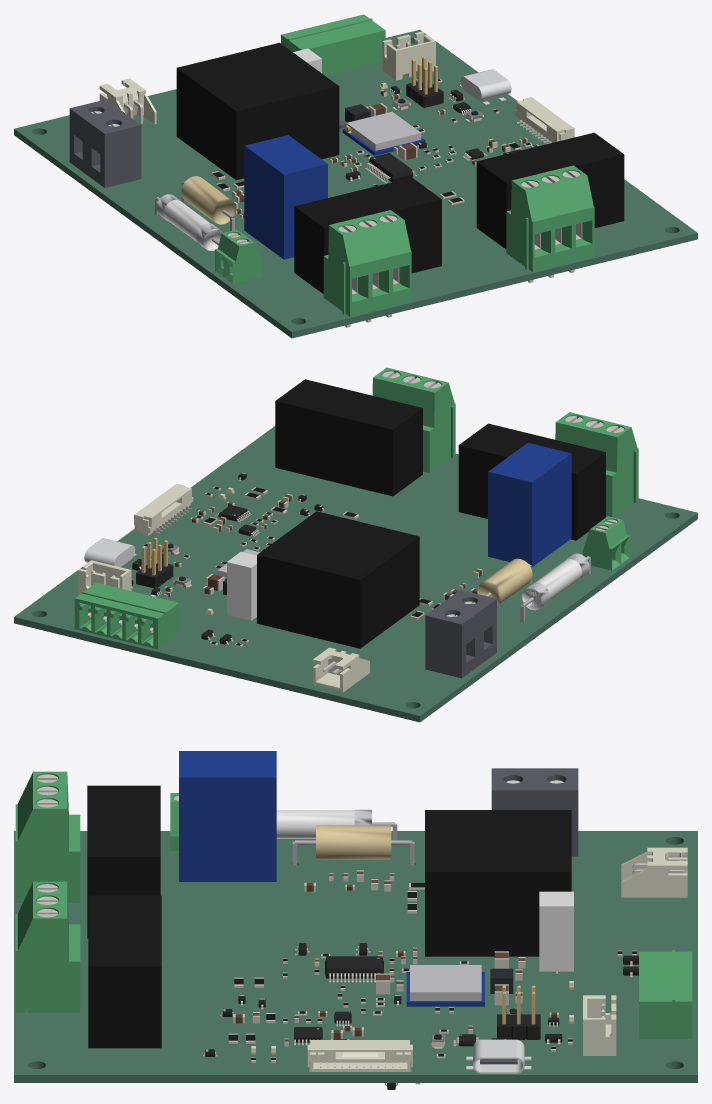
Rendered from main.glb.
3 renders of one model, top to bottom at view 1: azimuth 30°, elevation 25°; view 2: azimuth 150°, elevation 25°; view 3: azimuth 270°, elevation 25°, orthographic. The views are drawn at different scales.
Visible parts, largest first — view 1: =>[0:1:1:126], G5RL-1-E-HR-envelope (Shell) (×2), =>[0:1:1:35] (×2), RACM06E-envelope (Shell), TMOV14-inline-envelope (Shell), =>[0:1:1:24], =>[0:1:1:103], =>[0:1:1:17], =>[0:1:1:82], ESP32-C6-MINI-1U-envelope (Shell), =>[0:1:1:92], R_Axial_L13_D6-envelope (Face) (+5 smaller); view 2: =>[0:1:1:126], G5RL-1-E-HR-envelope (Shell) (×2), RACM06E-envelope (Shell), TMOV14-inline-envelope (Shell), =>[0:1:1:35] (×2), =>[0:1:1:24], =>[0:1:1:103], =>[0:1:1:7], =>[0:1:1:17], =>[0:1:1:11], =>[0:1:1:92], R_Axial_L13_D6-envelope (Face) (+4 smaller); view 3: =>[0:1:1:126], G5RL-1-E-HR-envelope (Shell) (×2), RACM06E-envelope (Shell), =>[0:1:1:35] (×2), TMOV14-inline-envelope (Shell), =>[0:1:1:103], =>[0:1:1:24], =>[0:1:1:92], ESP32-C6-MINI-1U-envelope (Shell) (×2), =>[0:1:1:11], =>[0:1:1:7], R_Axial_L13_D6-envelope (Face) (+5 smaller).
Boxes of the visible parts, x1,y1,x2,y2 form: =>[0:1:1:126]: (14,29,697,338); G5RL-1-E-HR-envelope (Shell) (×2): (294,132,624,293); =>[0:1:1:35] (×2): (323,165,594,327); RACM06E-envelope (Shell): (176,42,339,180); TMOV14-inline-envelope (Shell): (244,135,327,259); =>[0:1:1:24]: (69,99,141,187); =>[0:1:1:103]: (281,14,385,75); =>[0:1:1:17]: (215,229,262,283); =>[0:1:1:82]: (382,31,435,80); ESP32-C6-MINI-1U-envelope (Shell): (346,111,421,150); =>[0:1:1:92]: (515,97,574,144); R_Axial_L13_D6-envelope (Face): (181,176,236,224); =>[0:1:1:126]: (14,426,697,722); G5RL-1-E-HR-envelope (Shell) (×2): (275,379,605,540); RACM06E-envelope (Shell): (257,511,419,648); TMOV14-inline-envelope (Shell): (488,443,571,566); =>[0:1:1:35] (×2): (372,367,638,517); =>[0:1:1:24]: (425,590,496,678); =>[0:1:1:103]: (74,582,179,649); =>[0:1:1:7]: (227,551,256,620); =>[0:1:1:17]: (582,516,629,570); =>[0:1:1:11]: (313,647,369,692); =>[0:1:1:92]: (134,483,193,536); R_Axial_L13_D6-envelope (Face): (477,558,532,605); =>[0:1:1:126]: (14,831,697,1082); G5RL-1-E-HR-envelope (Shell) (×2): (87,785,161,1048); RACM06E-envelope (Shell): (425,810,571,956); =>[0:1:1:35] (×2): (15,771,80,1012); TMOV14-inline-envelope (Shell): (179,751,276,881); =>[0:1:1:103]: (639,950,692,1039); =>[0:1:1:24]: (491,768,578,856); =>[0:1:1:92]: (307,1040,412,1071); ESP32-C6-MINI-1U-envelope (Shell) (×2): (406,965,484,1006); =>[0:1:1:11]: (621,847,687,897); =>[0:1:1:7]: (539,891,573,973); R_Axial_L13_D6-envelope (Face): (316,825,391,859).
Bounding box in the file's own units: 0.1 × 0.0277 × 0.1185.
